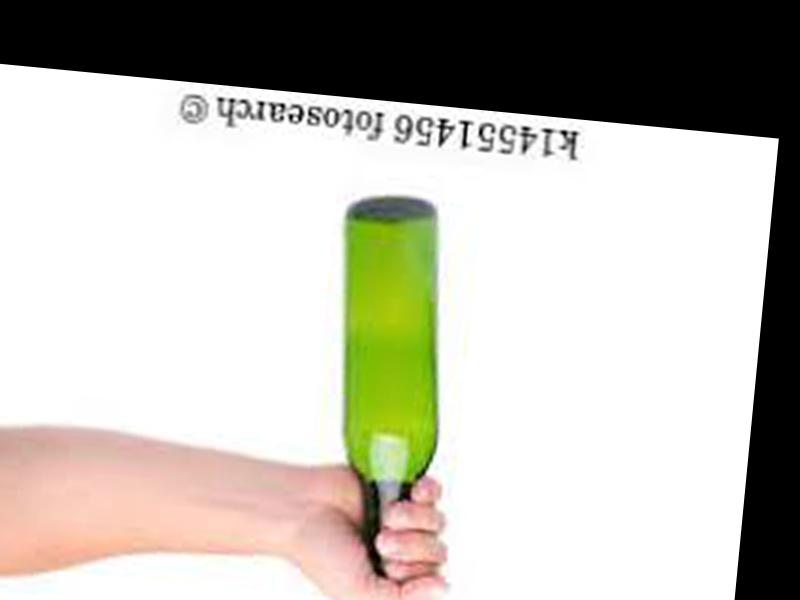Beer: (304, 191, 459, 600)
